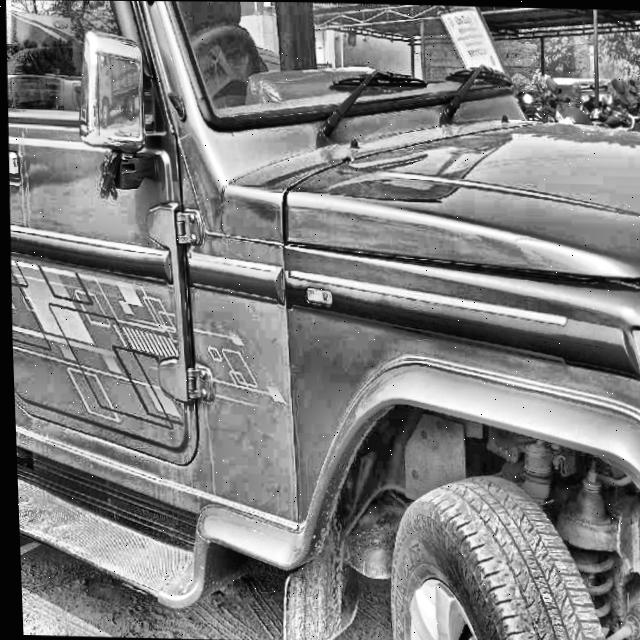light_vehicle: (0, 0, 640, 601)
